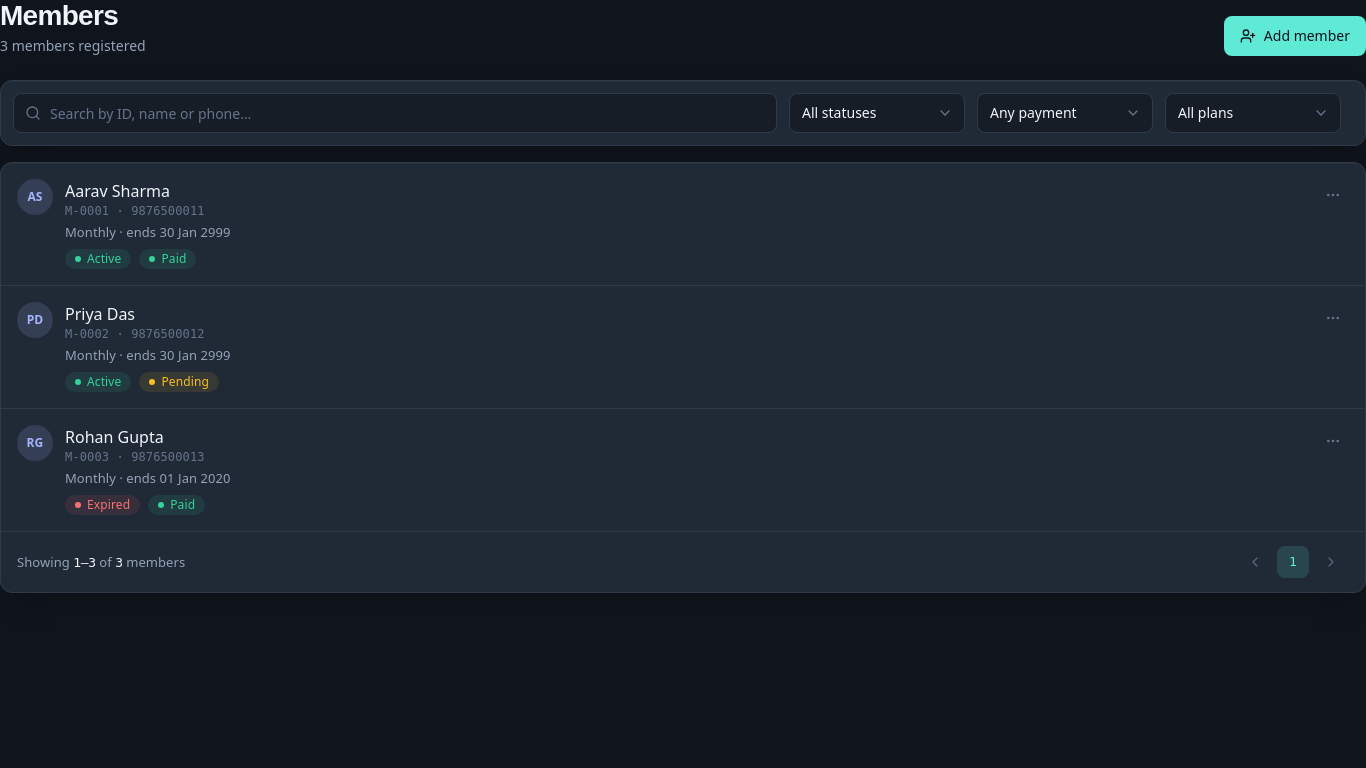
Test case: Members page (card layout) › edits a member
expect the text "Aarav Sharma" is shown: met, box [65,180,170,202]
Click the button named "Actions for Aarav Sharma". click: [1333, 195]
box: [1317,179,1349,211]
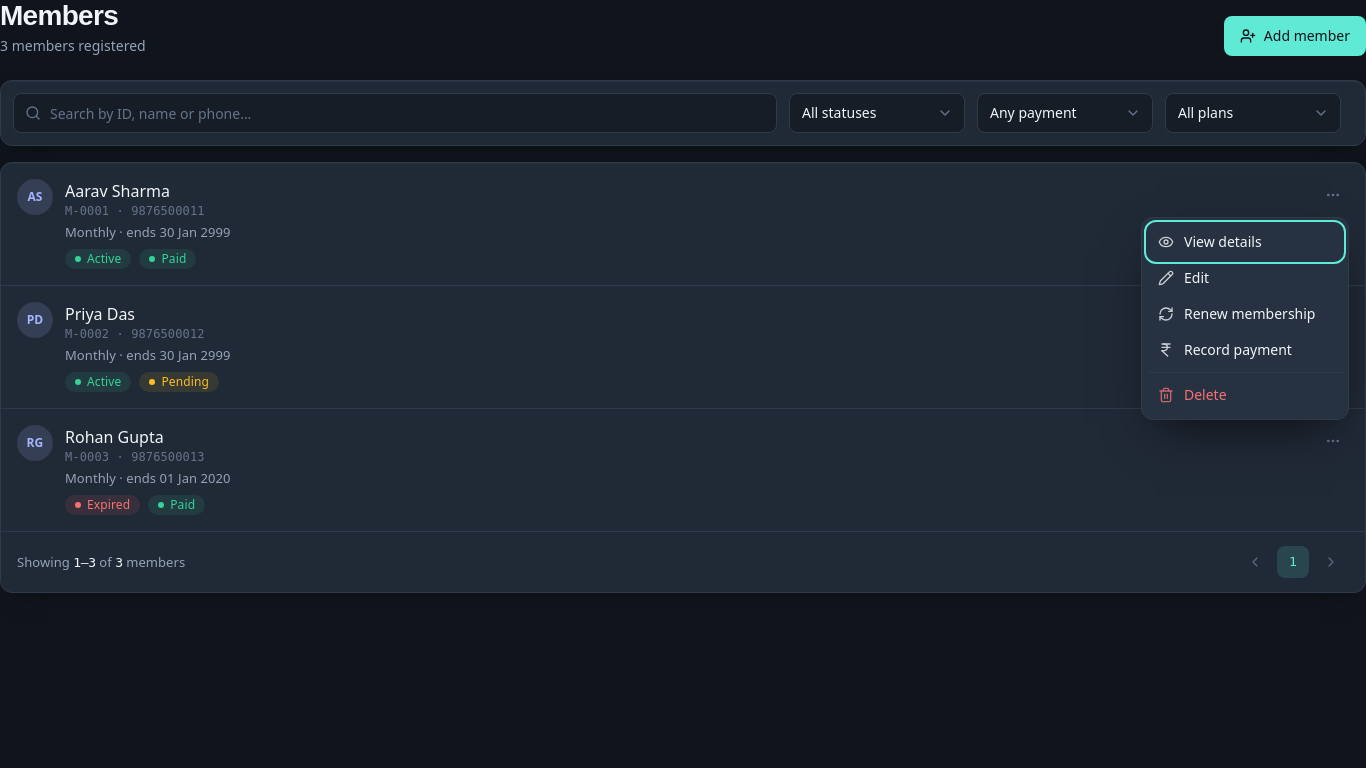
Click the menu item "Edit". click: [1245, 278]
box: [1148,260,1342,296]
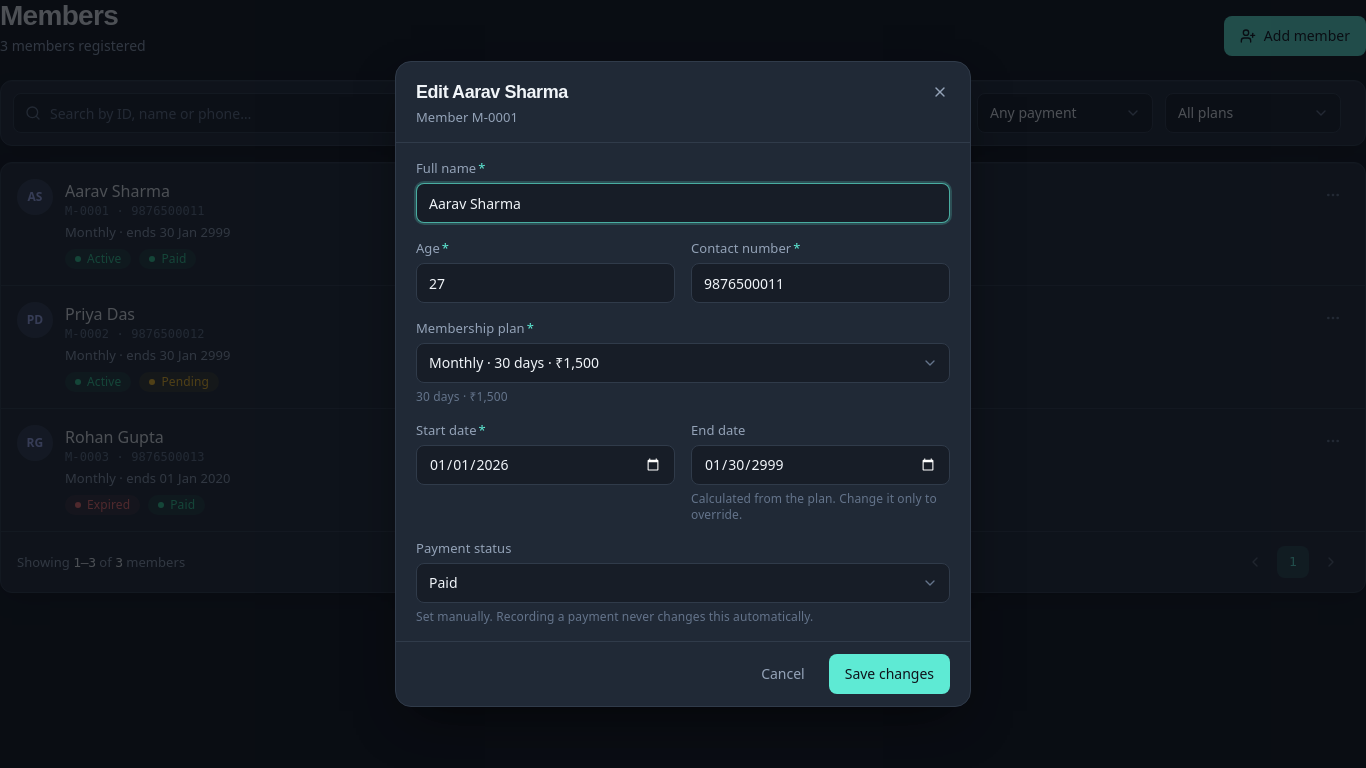
Replace the text in the field labelled "Full name*" with "Aarav K. Sharma". click: [683, 203]
box: [416,183,950,223]
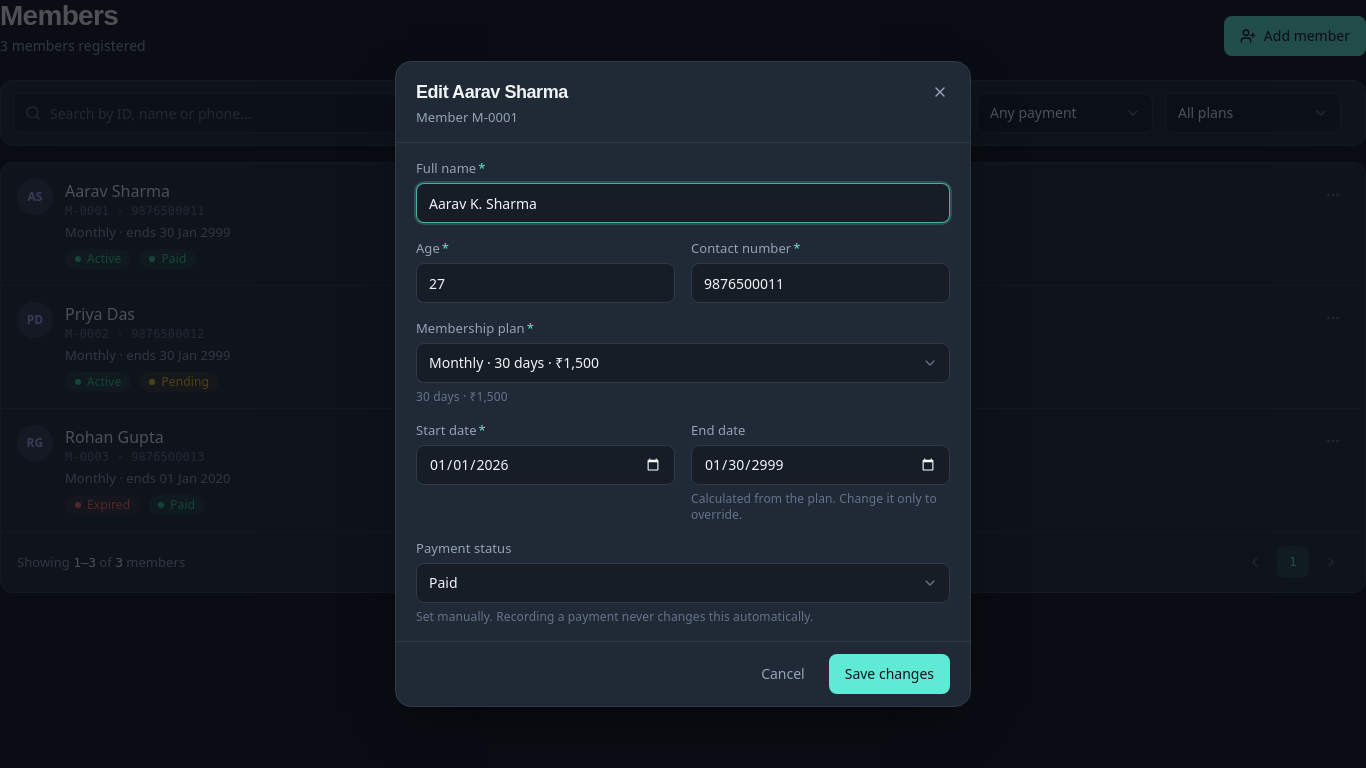
Click the button "Save changes". click: [889, 674]
box: [829,654,950,694]
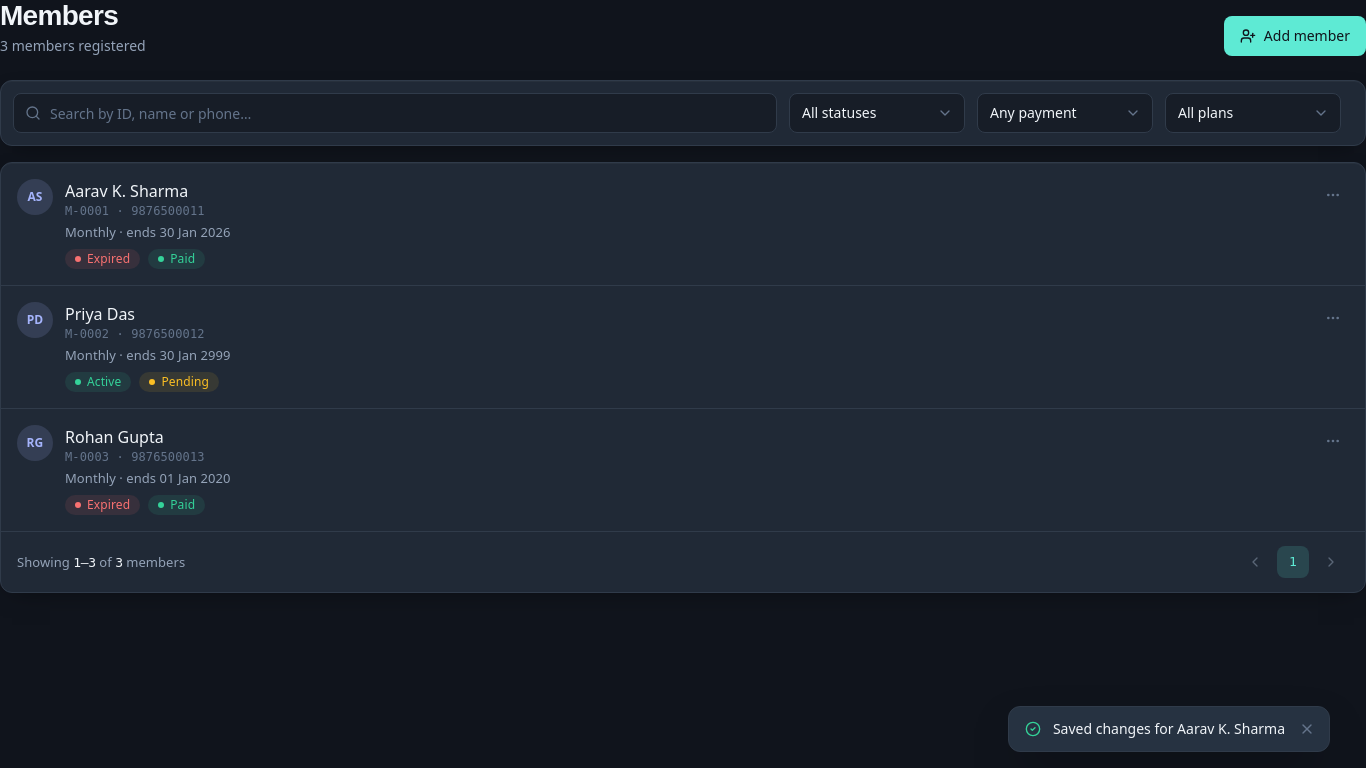
expect the text "Aarav K. Sharma" is shown: met, box [65,180,188,202]
